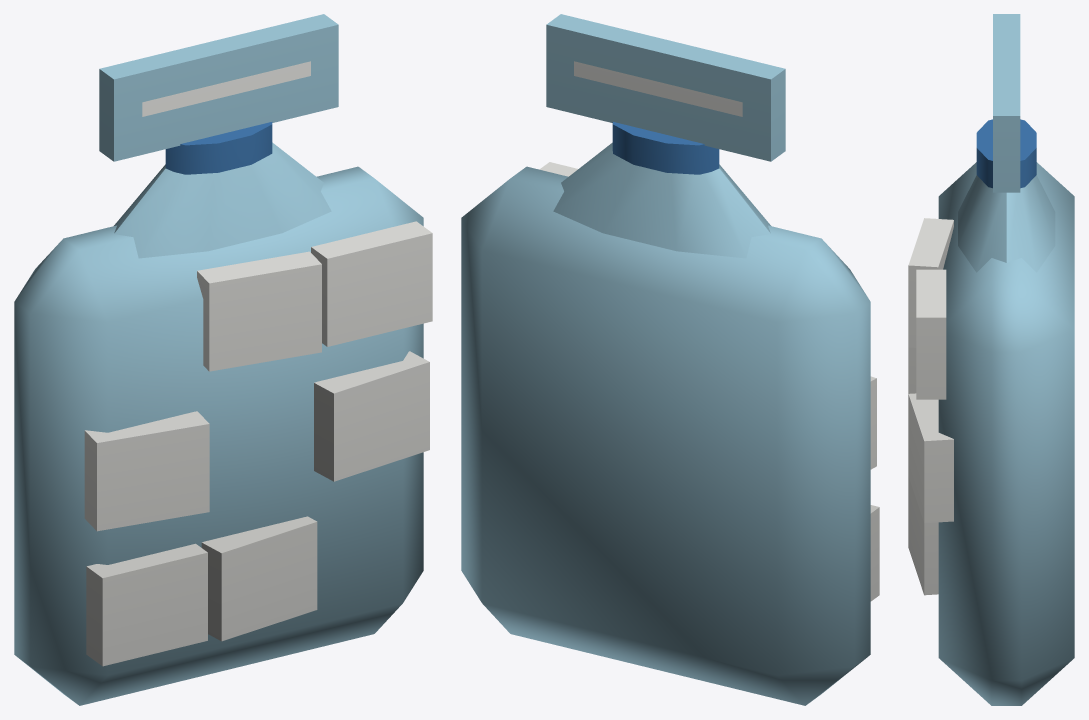
File: IceBag_01.glb
3 views of the same model, side by side, from view 1: azimuth 30°, elevation 25°; view 2: azimuth 150°, elevation 25°; view 3: azimuth 270°, elevation 25° (orthographic). The views are drawn at different scales.
Visible parts, largest first — view 1: SM_IceBag_01; view 2: SM_IceBag_01; view 3: SM_IceBag_01.
Part boxes in pixels (box(x1,y1,x2,y2)): SM_IceBag_01: box(14, 14, 432, 705); SM_IceBag_01: box(461, 14, 879, 705); SM_IceBag_01: box(908, 14, 1074, 705).
Bounding box in the file's own units: 0.28 × 0.42 × 0.1101.
Materials: 1 (1 with a texture image).
